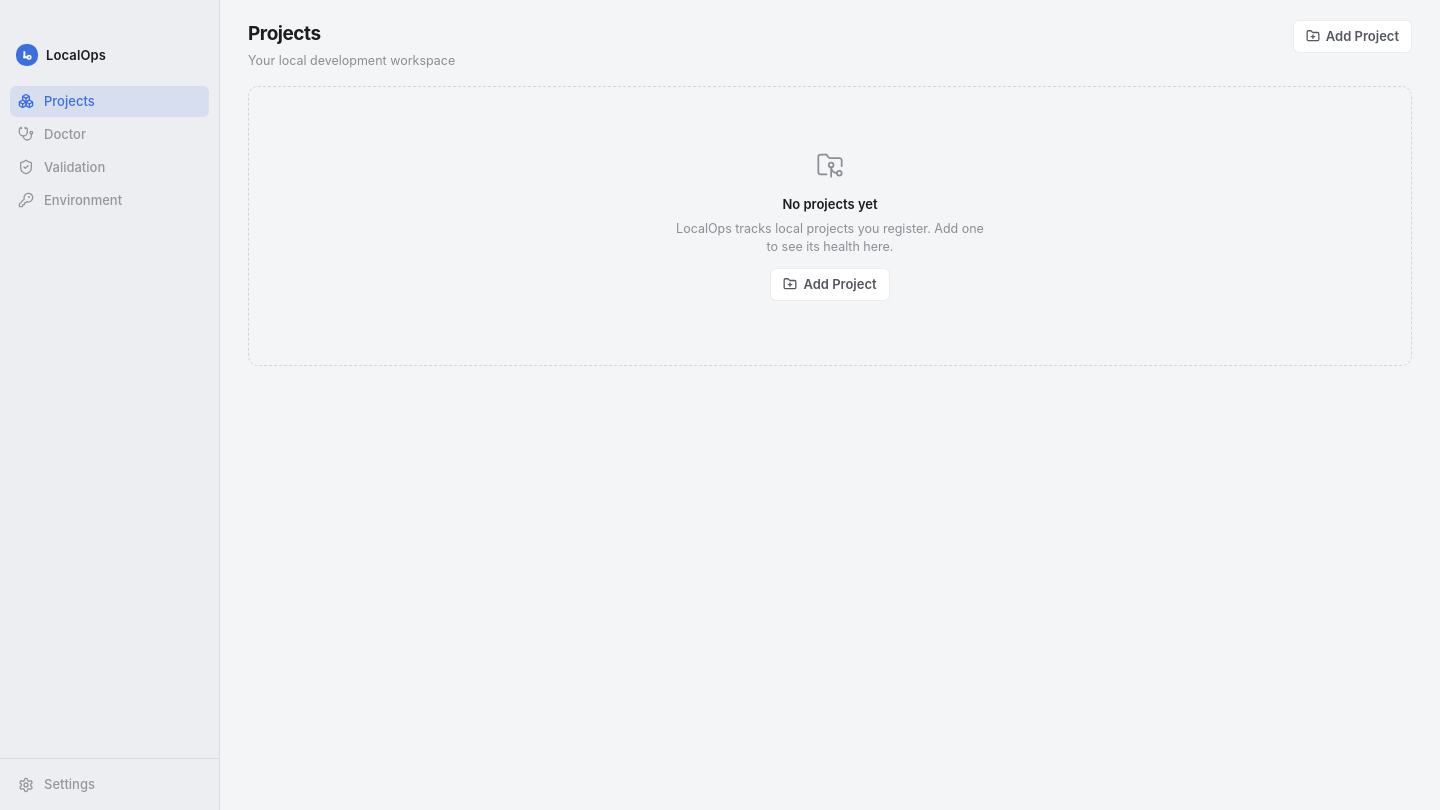
Test: ProjectsPage › adds a project and reloads the overview on success
This screenshot has width=1440, height=810.
Check: the text "No projects yet" is shown, box [782,195,878,214]
Step 1. Click the 1st button "Add Project" → (1352, 36), box [1293,20,1412,53]
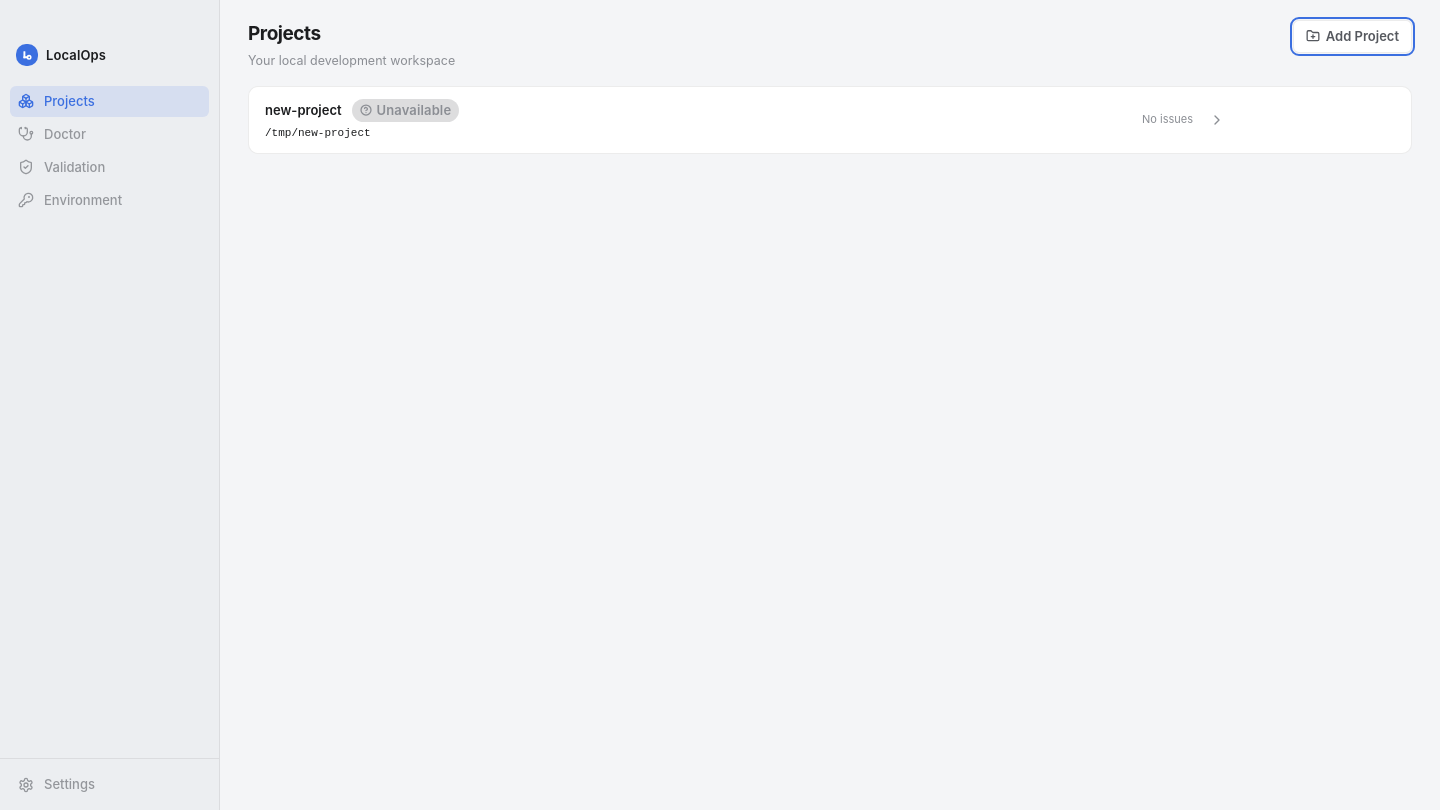
Check: the text "new-project" is shown, box [265,101,342,120]
